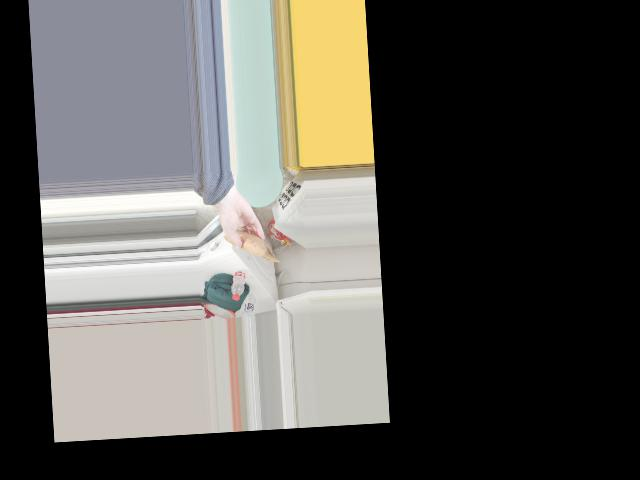sweet_potato: (229, 226, 263, 256)
